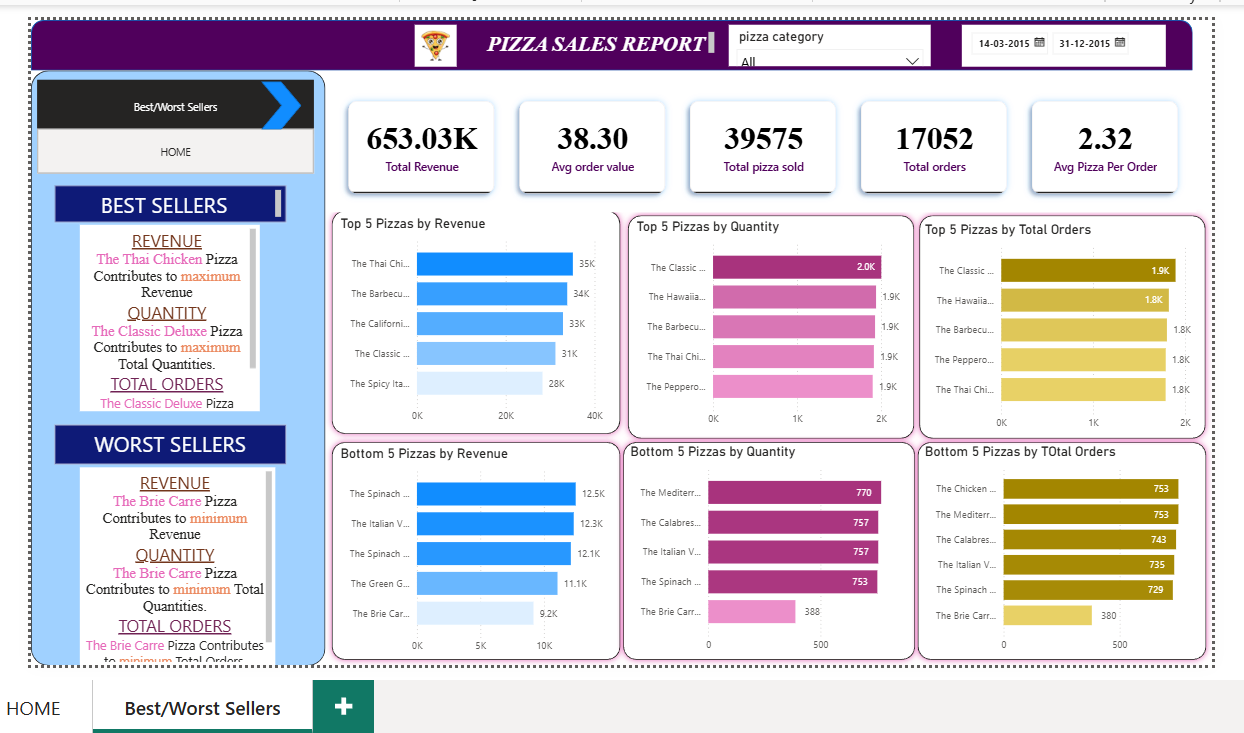

The dashboard page shown, as its layout file describes it:
{"tool":"powerbi","page":{"name":"Best/Worst Sellers","canvas":[1500,820],"ordinal":1},"visuals":[{"type":"shape","box":[0,0,1475.2,64.2],"z":0},{"type":"textbox","box":[569.3,10,302.5,38.5],"z":1000},{"type":"textbox","box":[655.3,76.1,154.1,39],"z":2000},{"type":"shape","box":[373.8,234,382.4,299.6],"z":3000},{"type":"shape","box":[750.5,239.7,379.5,299.6],"z":4000},{"type":"slicer","fields":{"Values":["pizza_sales_excel_file.pizza_category"]},"box":[886,5.7,256.8,52.8],"z":5000},{"type":"shape","box":[373.8,527.9,382.4,292.5],"z":6000},{"type":"shape","box":[743.3,527.9,386.6,292.5],"z":7000},{"type":"shape","box":[1117.1,527.9,382.4,292.5],"z":8000},{"type":"shape","box":[0,64.2,373.8,756.2],"z":9000},{"type":"textbox","box":[30,209.7,293.9,47.1],"z":10000},{"type":"textbox","box":[62.8,259.7,228.3,236.8],"z":11000},{"type":"textbox","box":[30,513.6,293.9,49.9],"z":12000},{"type":"textbox","box":[63,568.3,248.5,251.8],"z":13000},{"type":"shape","box":[1120,239.7,379.5,299.6],"z":14000},{"type":"barChart","title":"Top 5 Pizzas by Revenue","fields":{"Category":["pizza_sales_excel_file.pizza_name"],"Y":["pizza_sales_excel_file.Total Revenue"]},"box":[387,248,356,273],"z":15000},{"type":"barChart","title":"Bottom 5 Pizzas by Revenue","fields":{"Category":["pizza_sales_excel_file.pizza_name"],"Y":["pizza_sales_excel_file.Total Revenue"]},"box":[387,540,356,273],"z":16000},{"type":"barChart","title":"Top 5 Pizzas by Quantity","fields":{"Category":["pizza_sales_excel_file.pizza_name"],"Y":["pizza_sales_excel_file.Total pizza sold"]},"box":[764,252,356,273],"z":17000},{"type":"barChart","title":"Bottom 5 Pizzas by Quantity","fields":{"Category":["pizza_sales_excel_file.pizza_name"],"Y":["pizza_sales_excel_file.Total pizza sold"]},"box":[756,538,364,273],"z":18000},{"type":"barChart","title":"Top 5 Pizzas by Total Orders","fields":{"Category":["pizza_sales_excel_file.pizza_name"],"Y":["pizza_sales_excel_file.Total orders"]},"box":[1130,255,356,273],"z":19000},{"type":"barChart","title":"Bottom 5 Pizzas by TOtal Orders","fields":{"Category":["pizza_sales_excel_file.pizza_name"],"Y":["pizza_sales_excel_file.Total orders"]},"box":[1130,537,368,273],"z":20000},{"type":"slicer","fields":{"Values":["pizza_sales_excel_file.order_date"]},"box":[1181.3,5.9,258.8,53.3],"z":21000},{"type":"pageNavigator","box":[7.9,75.1,351.6,69.1],"z":22000},{"type":"pageNavigator","box":[7.9,138.3,351.6,57.3],"z":23000},{"type":"image","box":[418.8,5.9,191.6,53.3],"z":24000},{"type":"shape","box":[292.4,77,51.4,61.2],"z":25000},{"type":"cardVisual","fields":{"Data":["pizza_sales_excel_file.Total Revenue","pizza_sales_excel_file.Avg order value","pizza_sales_excel_file.Total pizza sold","pizza_sales_excel_file.Total orders","pizza_sales_excel_file.Avg Pizza Per Order"]},"box":[374.4,74.1,1111.6,175.5],"z":26000}]}

Visuals, with their boxes on the page's 1500x820 design canvas (x1, y1, x2, y2). These are canvas units, not pixel positions in the 1244x733 screenshot, which may show the page scaled, cropped or inside an application window:
shape: select_region(0, 0, 1475, 64)
textbox: select_region(569, 10, 872, 48)
textbox: select_region(655, 76, 809, 115)
shape: select_region(374, 234, 756, 534)
shape: select_region(750, 240, 1130, 539)
slicer - pizza_sales_excel_file.pizza_category: select_region(886, 6, 1143, 58)
shape: select_region(374, 528, 756, 820)
shape: select_region(743, 528, 1130, 820)
shape: select_region(1117, 528, 1500, 820)
shape: select_region(0, 64, 374, 820)
textbox: select_region(30, 210, 324, 257)
textbox: select_region(63, 260, 291, 496)
textbox: select_region(30, 514, 324, 564)
textbox: select_region(63, 568, 312, 820)
shape: select_region(1120, 240, 1500, 539)
"Top 5 Pizzas by Revenue" barChart: select_region(387, 248, 743, 521)
"Bottom 5 Pizzas by Revenue" barChart: select_region(387, 540, 743, 813)
"Top 5 Pizzas by Quantity" barChart: select_region(764, 252, 1120, 525)
"Bottom 5 Pizzas by Quantity" barChart: select_region(756, 538, 1120, 811)
"Top 5 Pizzas by Total Orders" barChart: select_region(1130, 255, 1486, 528)
"Bottom 5 Pizzas by TOtal Orders" barChart: select_region(1130, 537, 1498, 810)
slicer - pizza_sales_excel_file.order_date: select_region(1181, 6, 1440, 59)
pageNavigator: select_region(8, 75, 360, 144)
pageNavigator: select_region(8, 138, 360, 196)
image: select_region(419, 6, 610, 59)
shape: select_region(292, 77, 344, 138)
cardVisual - pizza_sales_excel_file.Total Revenue x pizza_sales_excel_file.Avg order value: select_region(374, 74, 1486, 250)
